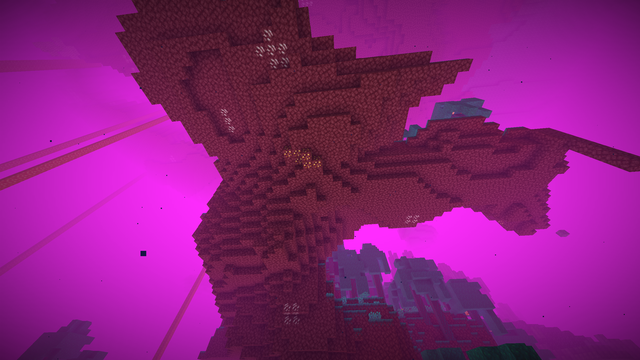nethergold: (282, 148, 323, 168)
quartz: (255, 28, 291, 68), (282, 303, 300, 325), (220, 108, 235, 133), (404, 214, 419, 224)
